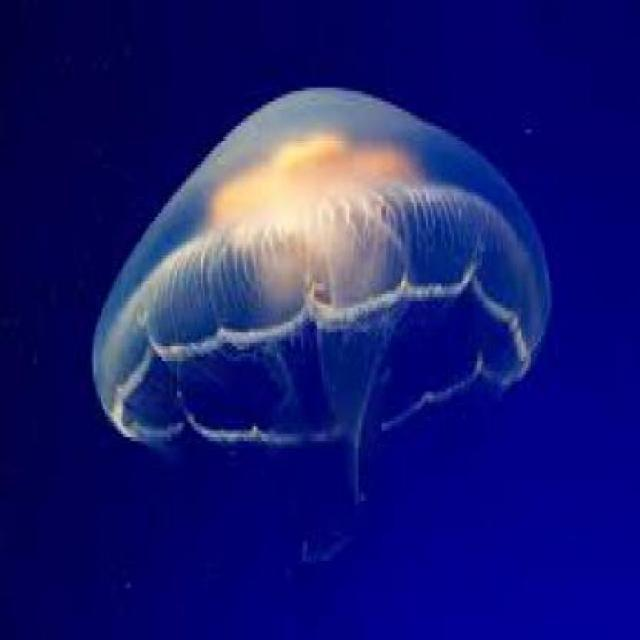Jellyfish: (72, 60, 558, 482)
